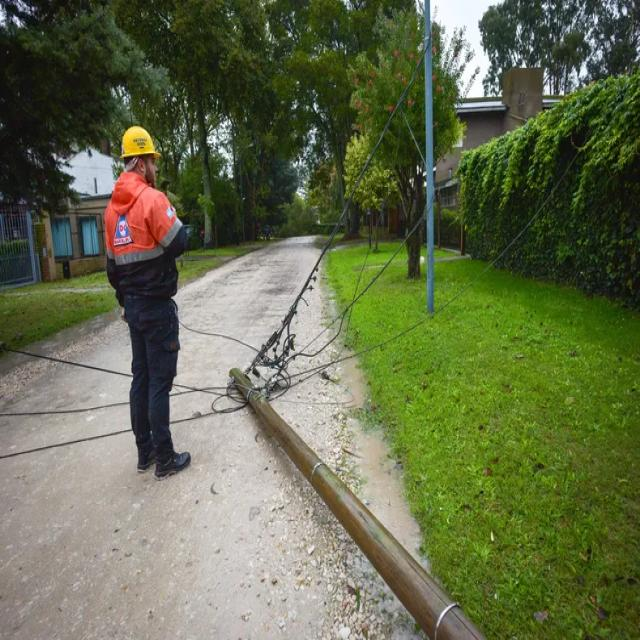Inclined Pole: (227, 304, 490, 640)
